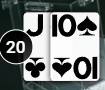10: (50, 12, 77, 38)
j: (24, 13, 48, 38)
